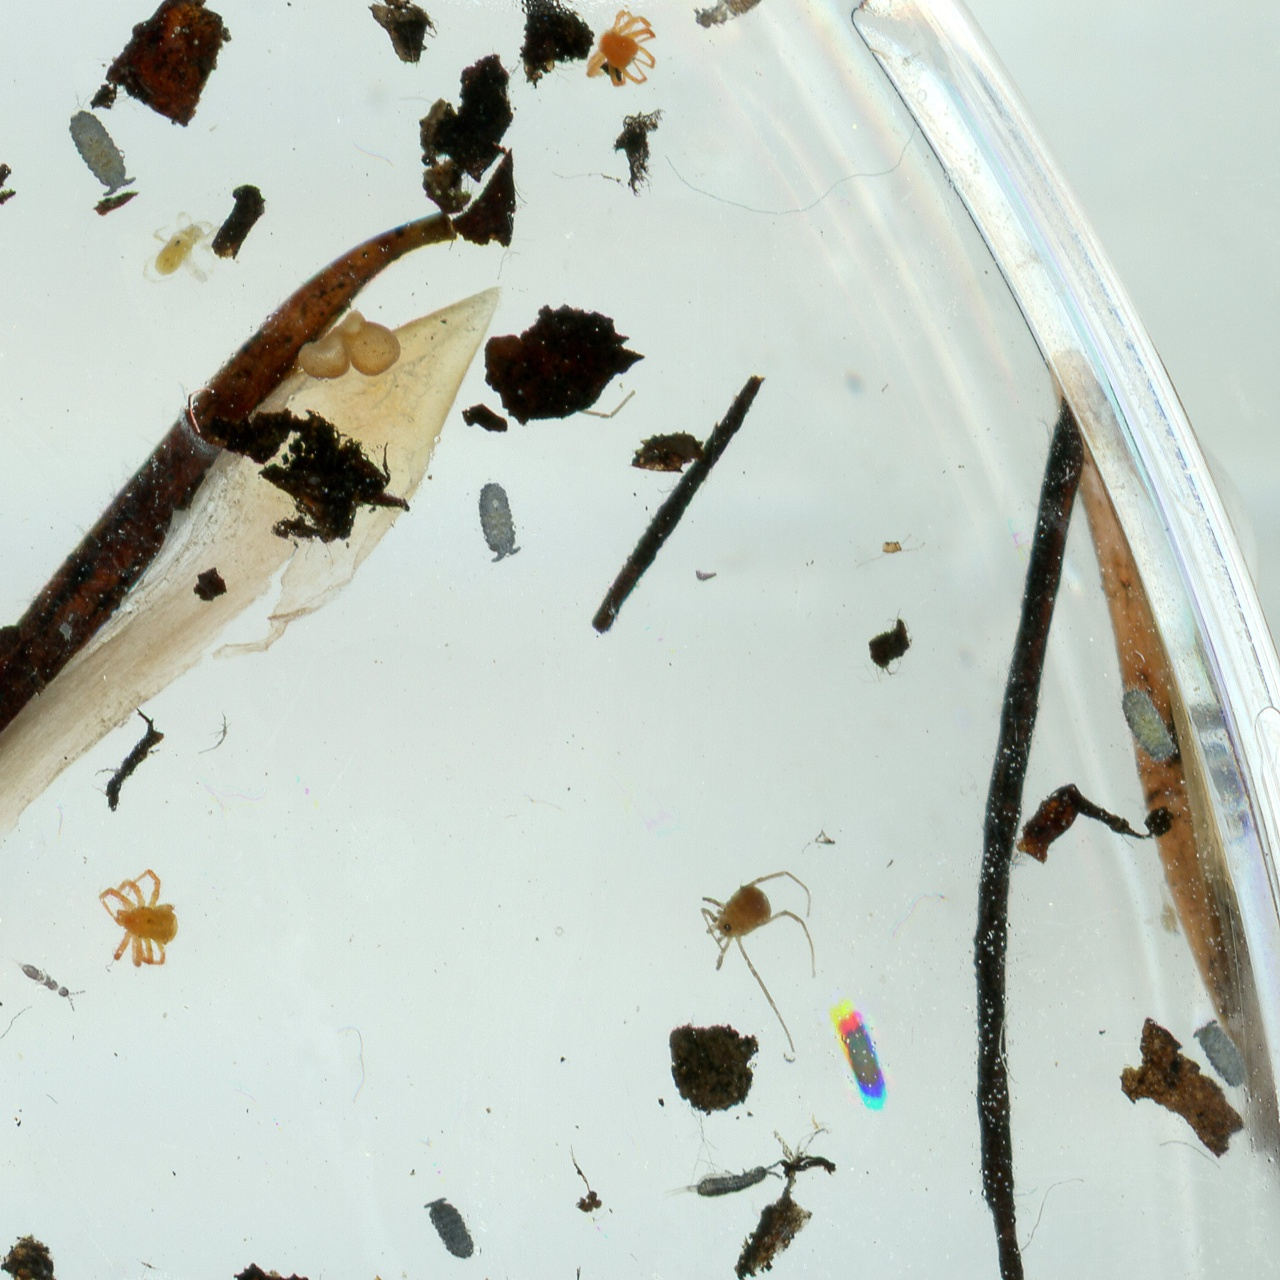arthropod: (674, 844, 884, 1088), (576, 0, 678, 108), (54, 97, 145, 207), (1108, 674, 1191, 776), (97, 866, 179, 969), (1180, 1007, 1266, 1105), (822, 1001, 902, 1106), (651, 1152, 798, 1207), (137, 201, 221, 295), (0, 944, 91, 1018), (466, 476, 534, 567), (683, 0, 818, 44), (415, 1189, 484, 1271)
